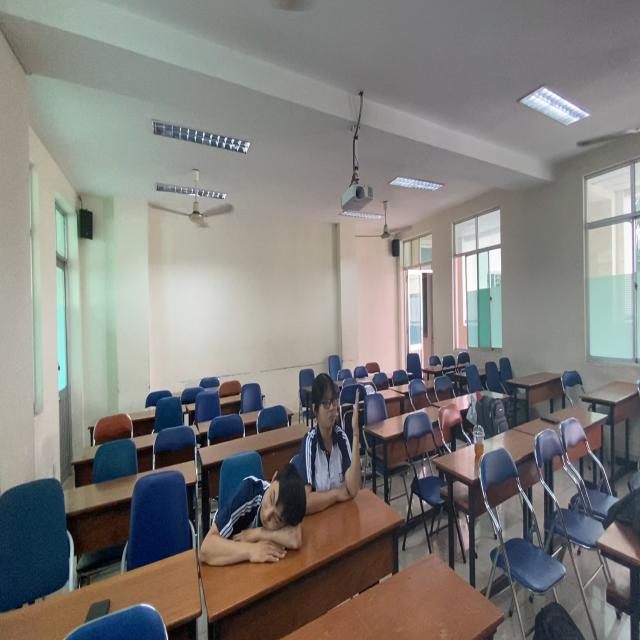raise_hand: (310, 375, 366, 503)
sleep: (197, 463, 313, 563)
